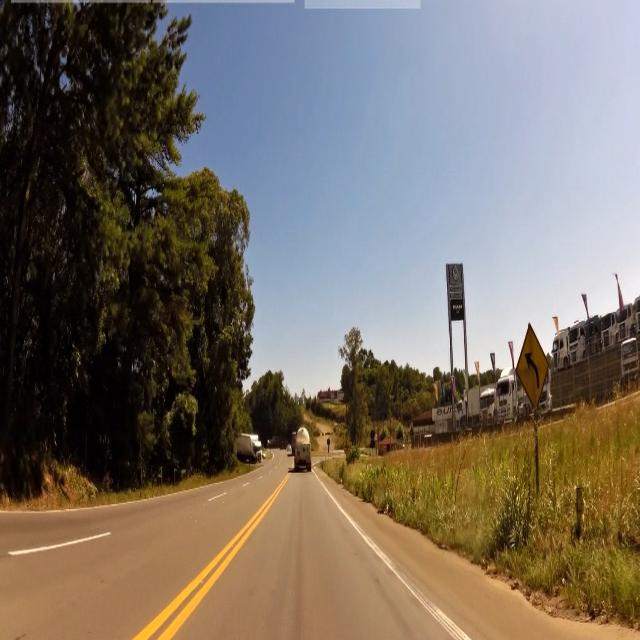A-2a: (515, 325, 547, 406)
